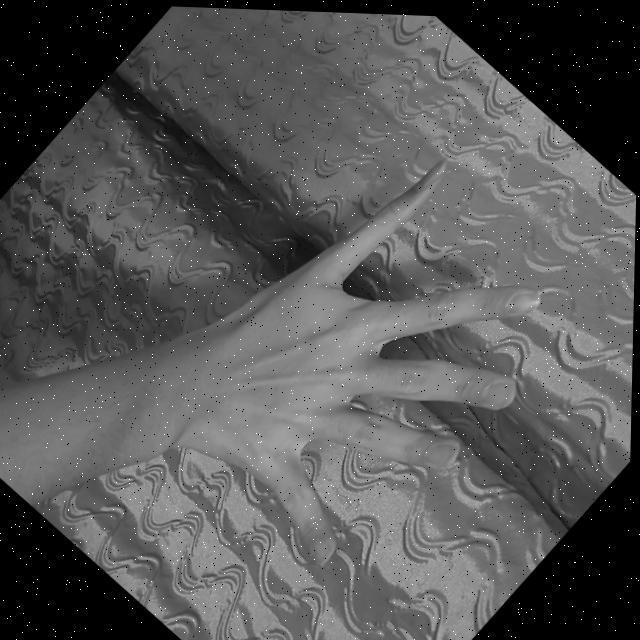no-gloves: (152, 115, 609, 594)
